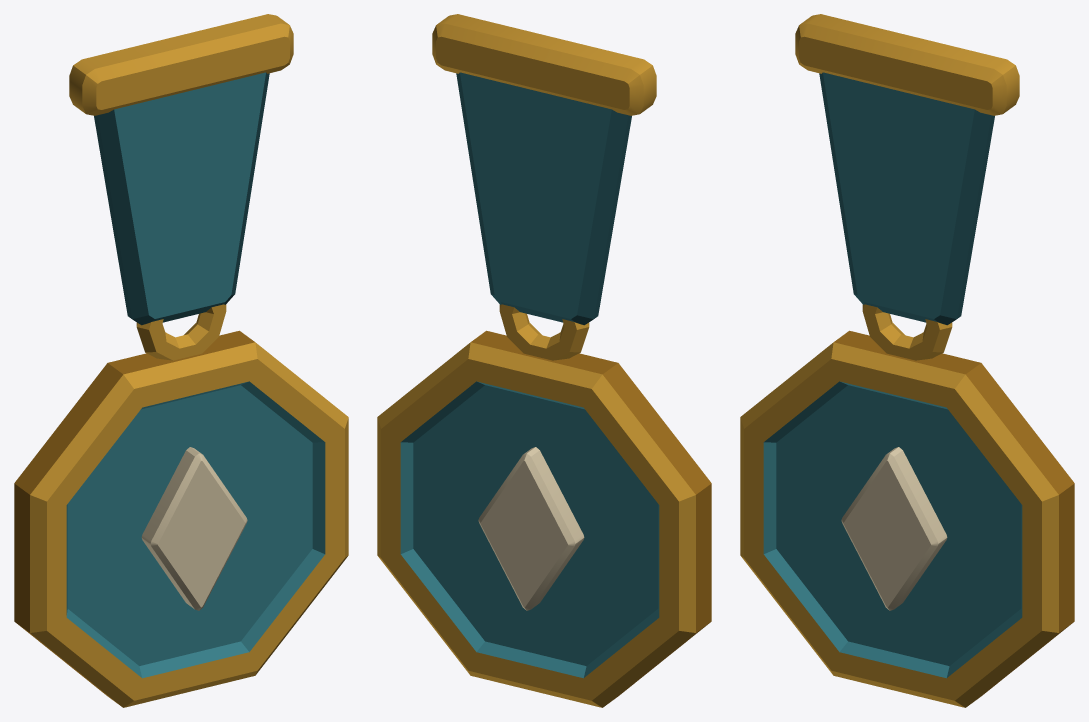
File: Medal_30.glb
3 views of the same model, side by side, from view 1: azimuth 30°, elevation 25°; view 2: azimuth 150°, elevation 25°; view 3: azimuth 330°, elevation 25° (orthographic).
Parts seen in each view (by area): view 1: Medal_30; view 2: Medal_30; view 3: Medal_30.
Part boxes in pixels (x1,y1,x2,y2): Medal_30: [14, 14, 348, 707]; Medal_30: [377, 14, 711, 707]; Medal_30: [740, 14, 1074, 707].
Size of the model in its own units: 1.28 by 2.47 by 0.28.
